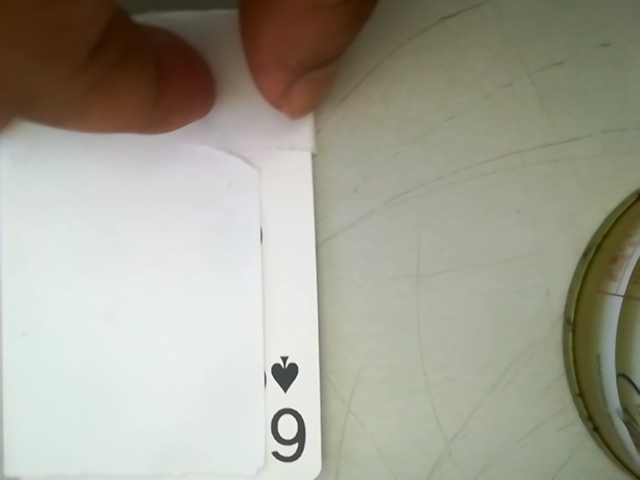ht 6: (245, 341, 318, 476)
